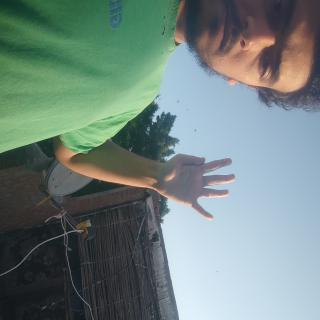SHEEN: (111, 105, 168, 222)
